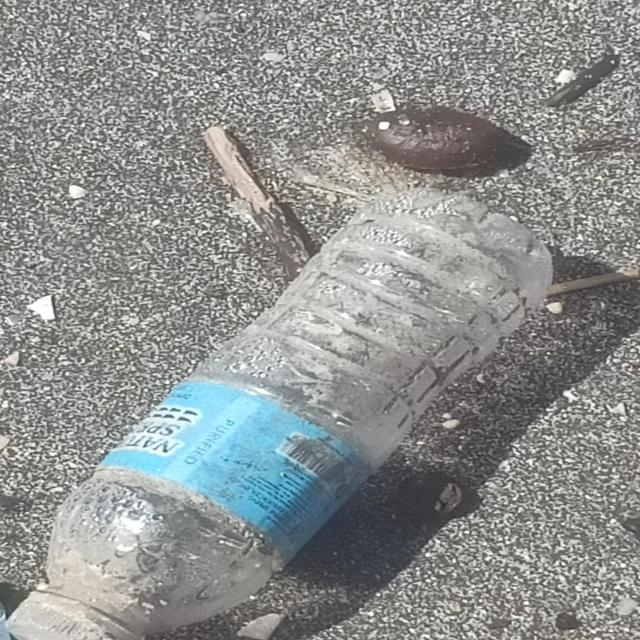plastic_waste: (0, 188, 556, 640)
